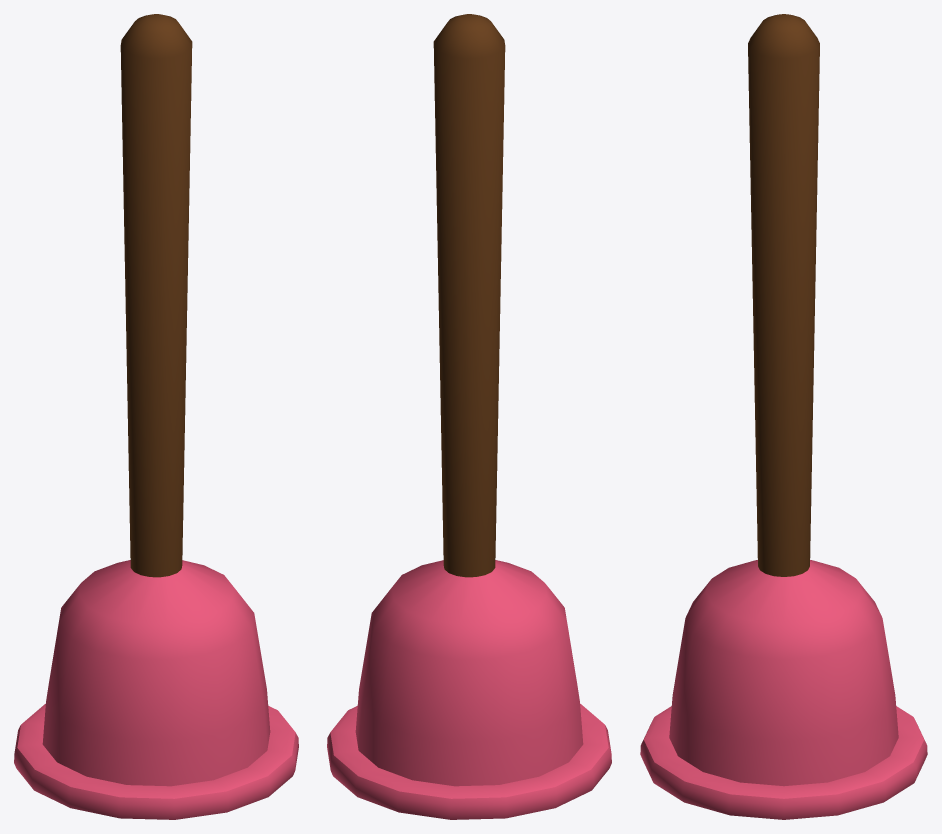
The model's file is ventouse.fbx.
3 renders of one model, left to right at view 1: azimuth 30°, elevation 25°; view 2: azimuth 150°, elevation 25°; view 3: azimuth 270°, elevation 25°, orthographic.
Visible parts, largest first — view 1: Cylinder; view 2: Cylinder; view 3: Cylinder.
Part boxes in pixels (<box>): Cylinder: <box>14,14,298,819</box>; Cylinder: <box>327,14,611,819</box>; Cylinder: <box>640,14,927,819</box>.
Bounding box in the file's own units: 2.79 × 7.98 × 2.79.
